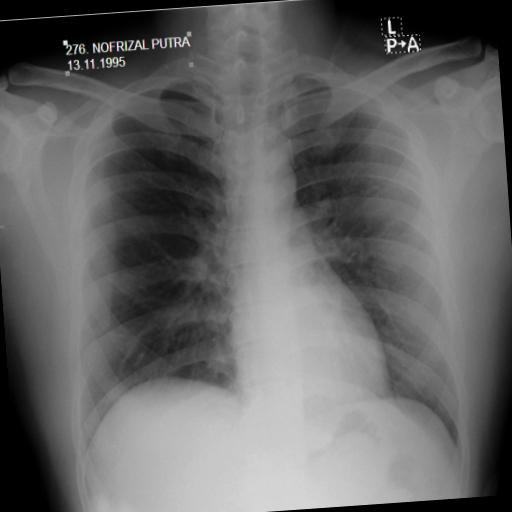normal: (37, 22, 472, 488)
